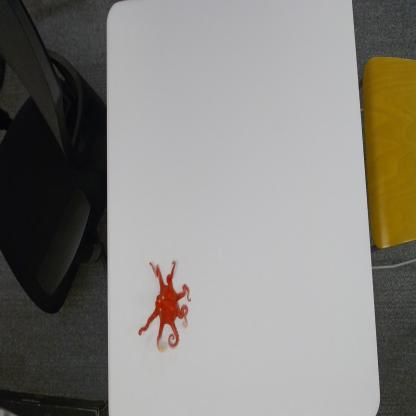Octopus: (137, 256, 192, 354)
